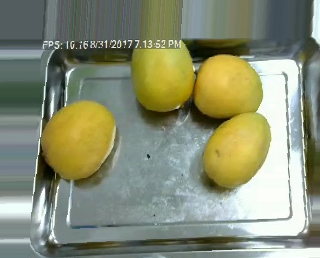Mango: (41, 101, 115, 180), (204, 111, 271, 187), (131, 39, 195, 112), (195, 54, 263, 117)
